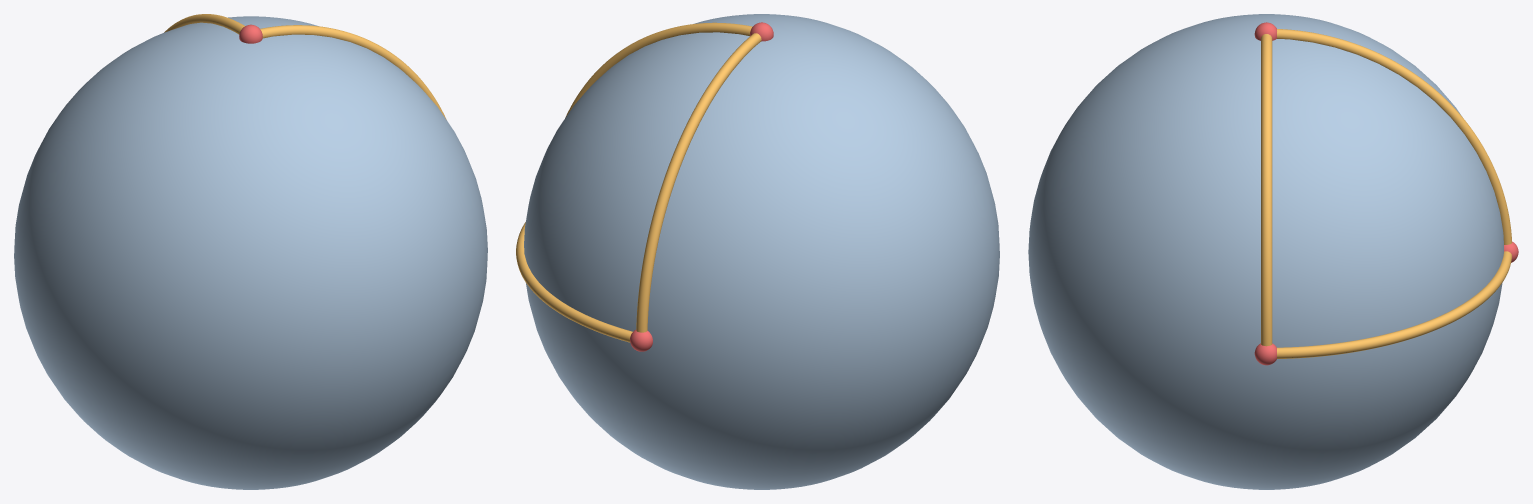
Rendered from sphere-triangle.glb.
3 renders of one model, left to right at view 1: azimuth 30°, elevation 25°; view 2: azimuth 150°, elevation 25°; view 3: azimuth 270°, elevation 25°, orthographic.
Visible parts, largest first — view 1: Sphere, Arc0, Arc2; view 2: Sphere, Arc2, Arc1, Arc0; view 3: Sphere, Arc0, Arc2, Arc1.
Boxes of the visible parts, x1=… form: Sphere: x1=14, y1=16, x2=487, y2=489; Arc0: x1=260, y1=25, x2=446, y2=119; Arc2: x1=164, y1=14, x2=244, y2=34; Sphere: x1=524, y1=14, x2=999, y2=489; Arc2: x1=636, y1=33, x2=761, y2=332; Arc1: x1=516, y1=222, x2=632, y2=342; Arc0: x1=565, y1=22, x2=752, y2=117; Sphere: x1=1028, y1=14, x2=1503, y2=489; Arc0: x1=1261, y1=34, x2=1272, y2=346; Arc2: x1=1277, y1=29, x2=1512, y2=244; Arc1: x1=1277, y1=251, x2=1511, y2=358.
Bounding box in the file's own units: 2.06 × 2.06 × 2.06.
